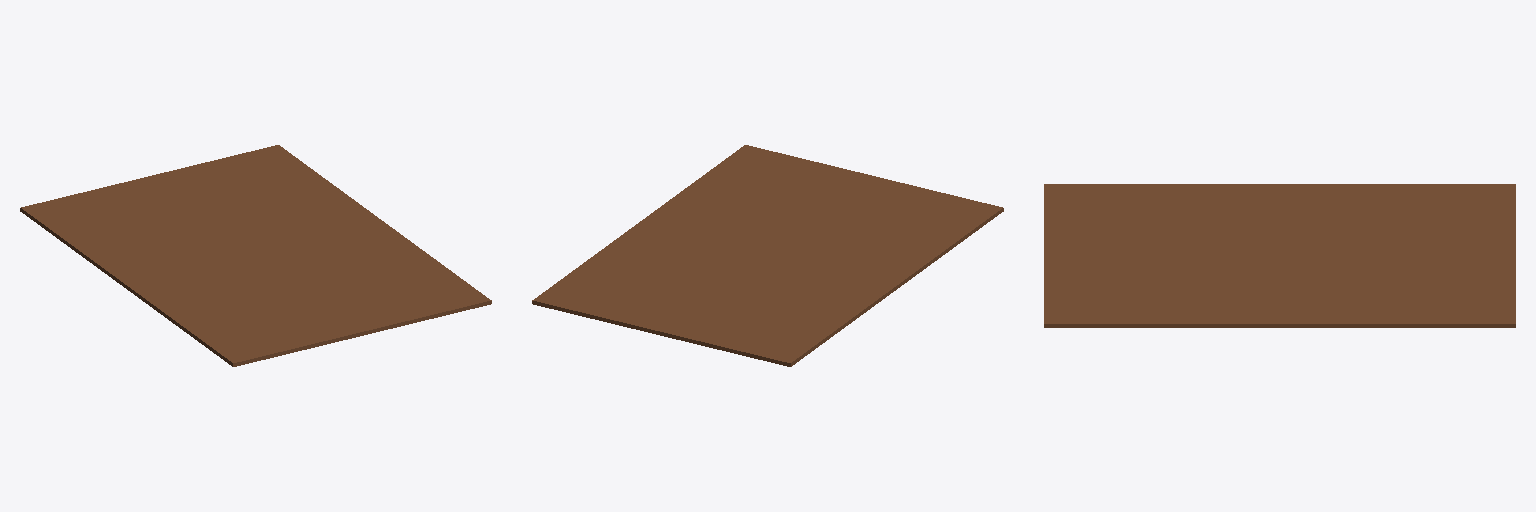
URDF robot description (table):
<?xml version="1.0" ?>
<robot name="table">
    <link name="table_link">
    <contact>
        <lateral_friction value="1"/>
    </contact>
    <inertial>
      <origin rpy="0 0 0" xyz="0 0 0"/>
       <mass value=".0"/>
       <inertia ixx="0" ixy="0" ixz="0" iyy="0" iyz="0" izz="0"/>
    </inertial>
    <visual>
      <origin rpy="0 0 0" xyz="0 0 0"/>
      <geometry>
        <box size="0.7 1 0.01"/>
      </geometry>
       <material name="wooden">
        <color rgba="0.52 0.36 0.25 1"/>
      </material>
    </visual>
    <collision>
      <origin rpy="0 0 0" xyz="0 0 0"/>
      <geometry>
        <box size="0.7 1 0.01"/>
      </geometry>
    </collision>
  </link>
</robot>

--- Render facts (derived) ---
Views: 3 orthographic renders of the robot side by side, from view 1: azimuth 30°, elevation 25°; view 2: azimuth 150°, elevation 25°; view 3: azimuth 270°, elevation 25°.
Model table with 1 links and 0 joints (none), rooted at table_link, posed every joint at zero.
Links seen in each view (by area): view 1: table_link; view 2: table_link; view 3: table_link.
Link boxes in pixels (x1,y1,x2,y2): table_link: (20, 145, 491, 366); table_link: (532, 145, 1003, 366); table_link: (1044, 184, 1515, 327).
Bounding box of the posed robot: 0.7 × 1 × 0.01 m (x, y, z).
Geometry: primitives only (box / cylinder / sphere), no mesh files.